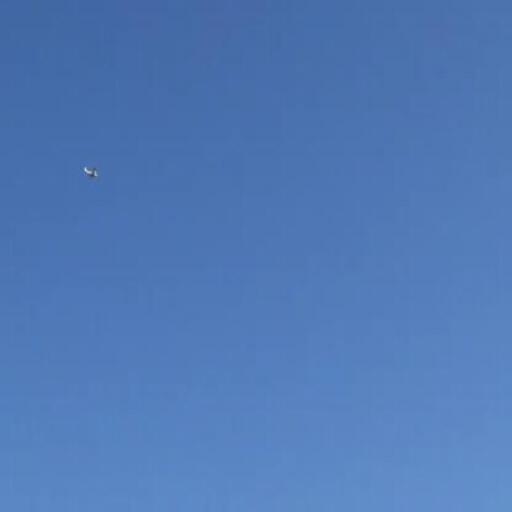aircraft: (84, 169, 100, 182)
